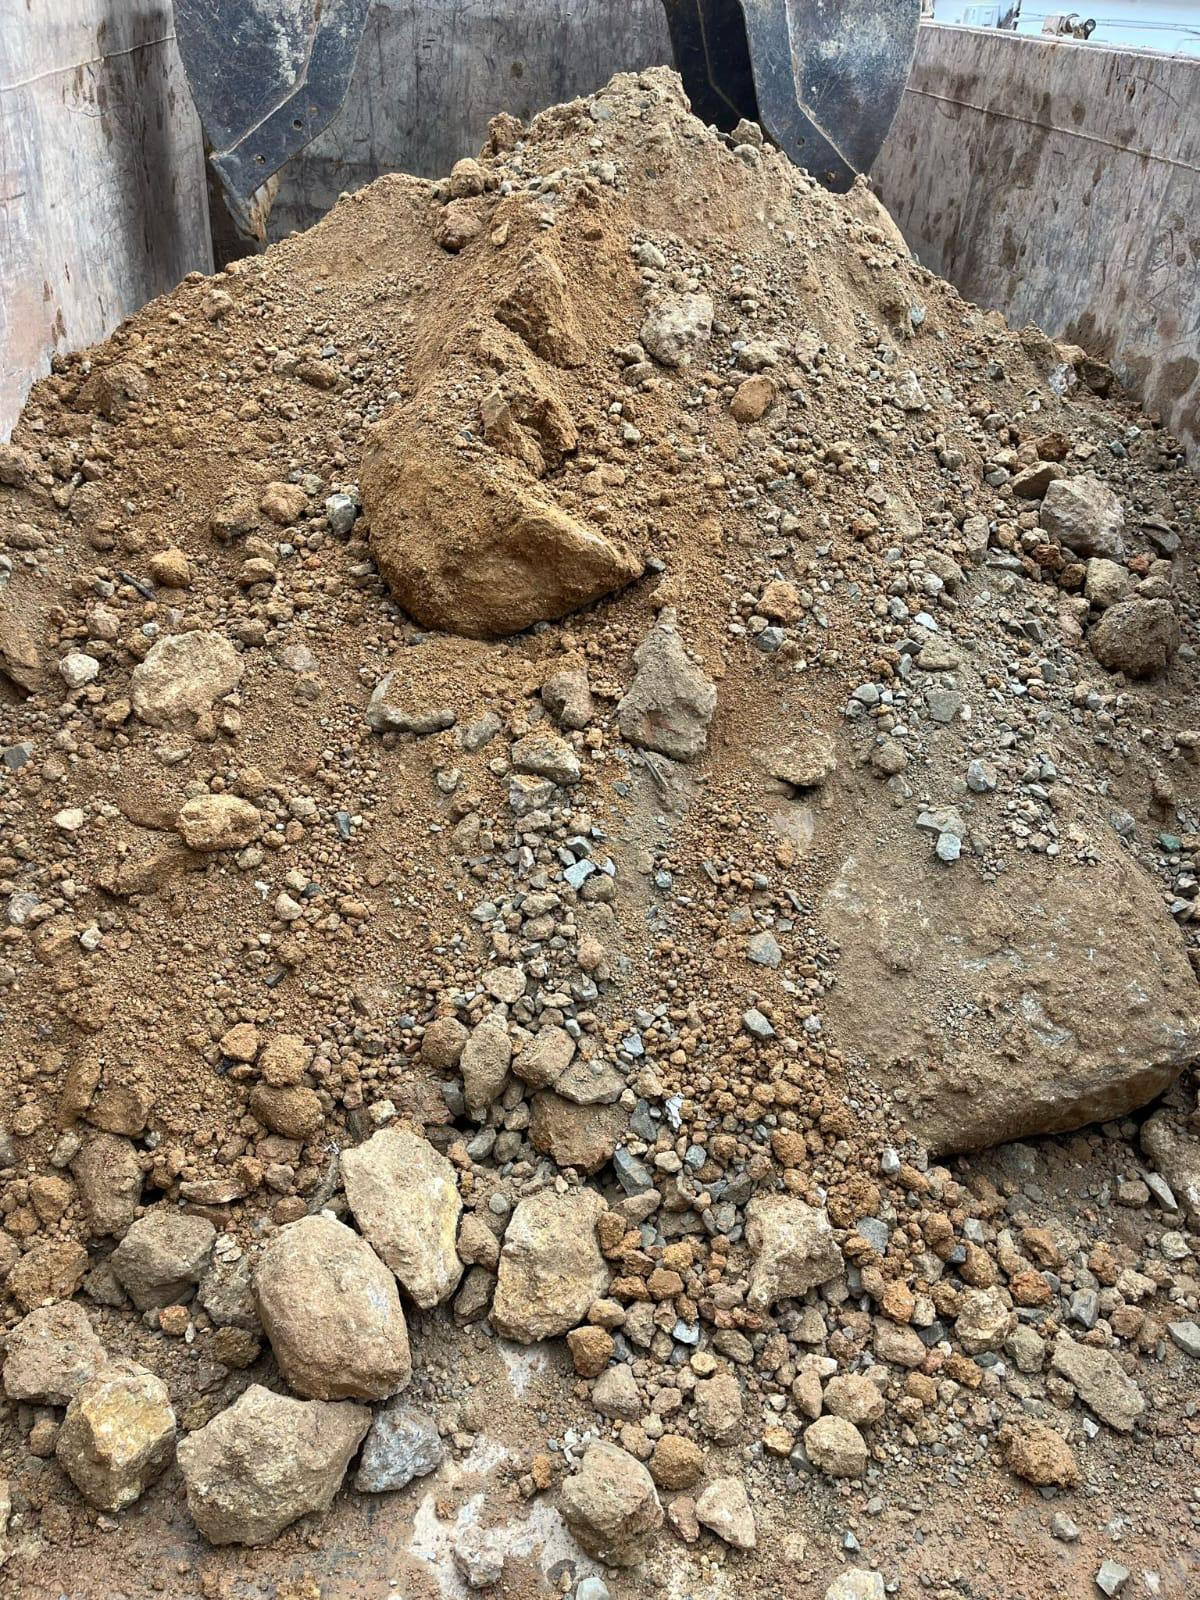dry: (0, 58, 1190, 1532)
